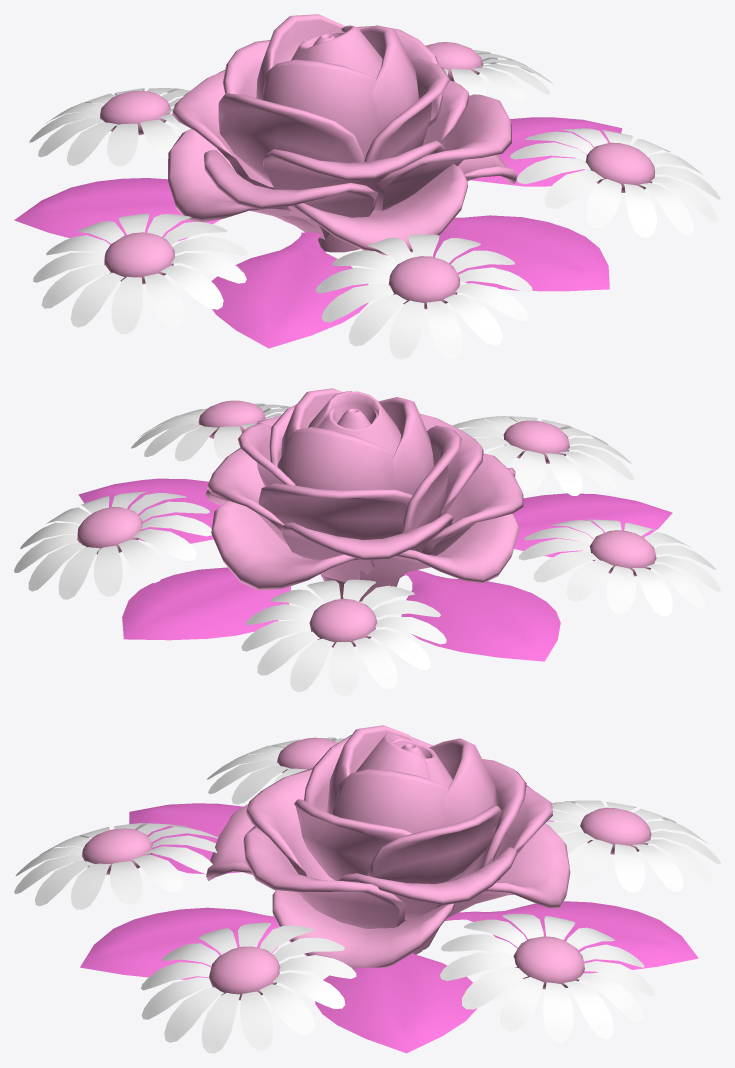
The model's file is Cake_ThemeFLowers_E.FBX.
The picture shows the model from 3 angles, top to bottom: view 1: azimuth 30°, elevation 25°; view 2: azimuth 150°, elevation 25°; view 3: azimuth 270°, elevation 25°; orthographic projection. The views are drawn at different scales.
Visible parts, largest first — view 1: Cake_ThemeFLowers_E; view 2: Cake_ThemeFLowers_E; view 3: Cake_ThemeFLowers_E.
Boxes of the visible parts, box(x1,y1,x2,y2) form: Cake_ThemeFLowers_E: box(14, 14, 720, 359); Cake_ThemeFLowers_E: box(14, 388, 720, 696); Cake_ThemeFLowers_E: box(14, 725, 720, 1053).
Size of the model in its own units: 96539 by 30195 by 93492.
